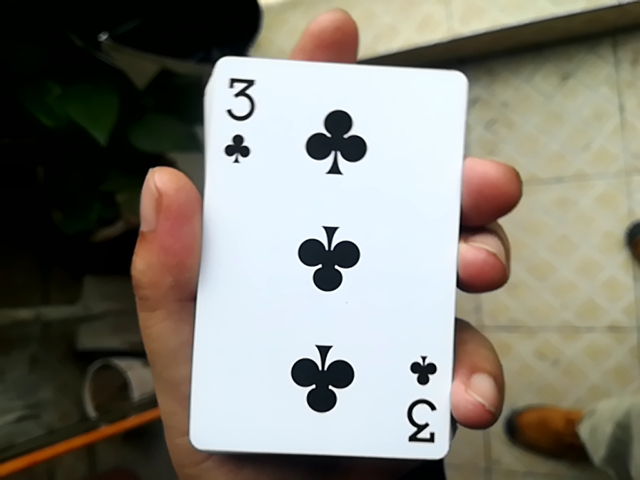mh 3: (175, 47, 469, 461)
